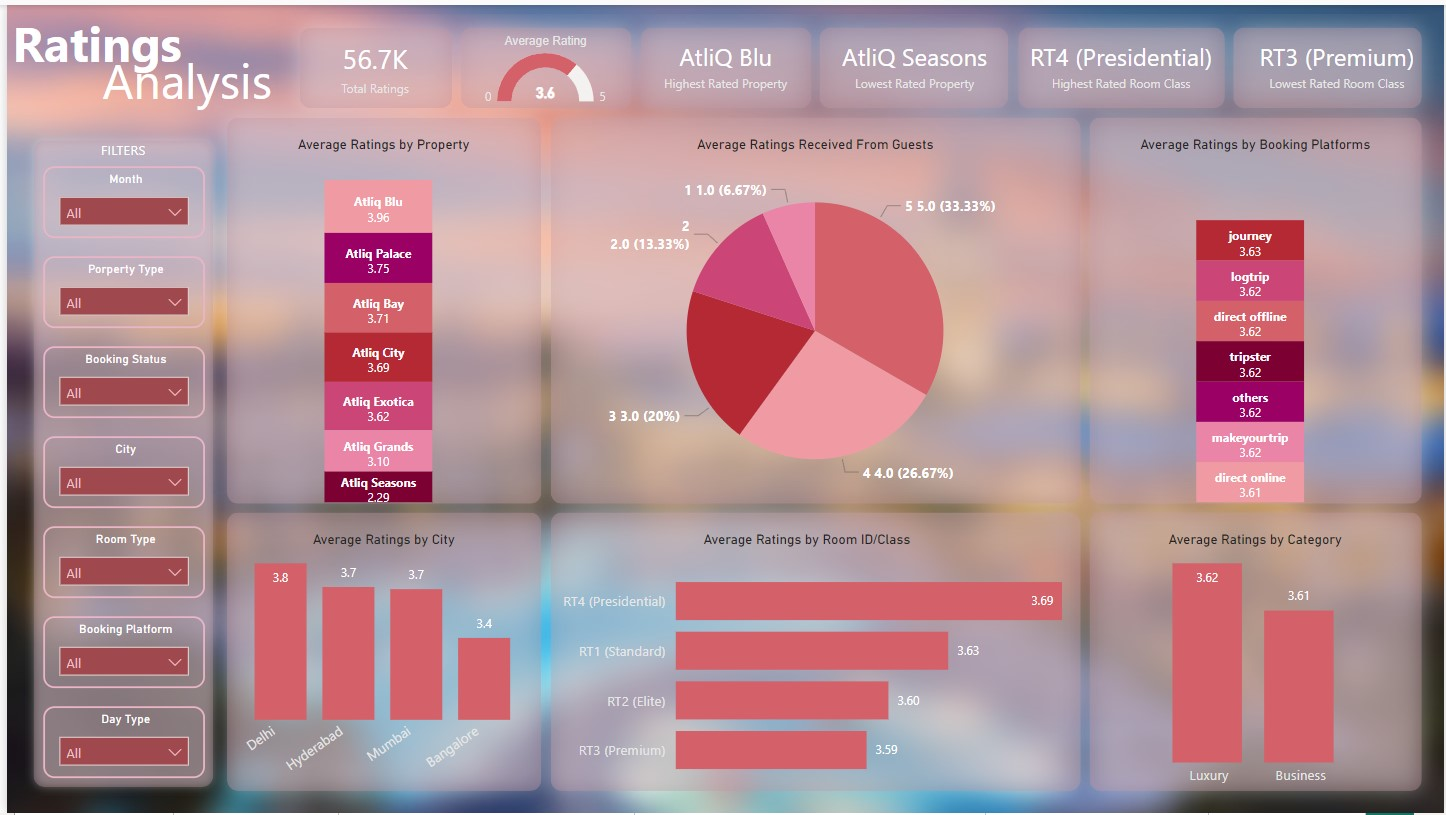

Layout of this report page (visuals, bound fields, positions):
{"tool":"powerbi","page":{"name":"Ratings Anaysis","canvas":[1280,720],"ordinal":5},"visuals":[{"type":"shape","title":"Filters","box":[464,432,512,288],"z":0},{"type":"shape","title":"Filters","box":[944,80,336,384],"z":1000},{"type":"shape","title":"Filters","box":[464,80,512,384],"z":2000},{"type":"shape","title":"Filters","box":[176,80,320,384],"z":3000},{"type":"shape","title":"Filters","box":[944,432,336,288],"z":4000},{"type":"shape","title":"Filters","box":[176,432,320,288],"z":5000},{"type":"shape","title":"Filters","box":[1072,0,208,112],"z":6000},{"type":"shape","title":"Filters","box":[704,0,208,112],"z":7000},{"type":"shape","title":"Filters","box":[384,0,192,112],"z":8000},{"type":"shape","title":"Filters","box":[880,0,224,112],"z":9000},{"type":"shape","title":"Filters","box":[544,0,192,112],"z":10000},{"type":"shape","title":"Filters","box":[240,0,176,112],"z":11000},{"type":"shape","title":"Filters","box":[16,112,176,592],"z":12000},{"type":"pieChart","title":"Average Ratings Received From Guests","fields":{"Y":["Avg(bookings.ratings_given)"],"Category":["bookings.ratings_given"]},"box":[480,112,480,336],"z":13000},{"type":"gauge","title":"Average Rating","fields":{"Y":["Avg(bookings.ratings_given)"]},"box":[400,16,160,80],"z":14000},{"type":"columnChart","title":"Average Ratings by City","fields":{"Category":["agg_book.city"],"Y":["Avg(bookings.ratings_given)"]},"box":[192,464,288,240],"z":15000},{"type":"slicer","title":"City","fields":{"Values":["agg_book.city"]},"box":[32,384,144,64],"z":16000},{"type":"slicer","title":"Porperty Type","fields":{"Values":["agg_book.property_name"]},"box":[32,224,144,64],"z":17000},{"type":"slicer","title":"Booking Platform","fields":{"Values":["bookings.booking_platform"]},"box":[32,544,144,64],"z":18000},{"type":"slicer","title":"Month","fields":{"Values":["agg_book.Month"]},"box":[32,144,144,64],"z":19000},{"type":"slicer","title":"Day Type","fields":{"Values":["agg_book.day_type"]},"box":[32,624,144,64],"z":20000},{"type":"slicer","title":"Booking Status","fields":{"Values":["bookings.booking_status"]},"box":[32,304,144,64],"z":21000},{"type":"slicer","title":"Room Type","fields":{"Values":["agg_book.room_id_class"]},"box":[32,464,144,64],"z":22000},{"type":"clusteredBarChart","title":"Average Ratings by Room ID/Class","fields":{"Category":["bookings.room_id_class"],"Y":["Avg(bookings.ratings_given)"]},"box":[480,464,480,240],"z":23000},{"type":"columnChart","title":"Average Ratings by Property","fields":{"Y":["Avg(bookings.ratings_given)"],"Series":["agg_book.property_name"]},"box":[192,112,288,336],"z":24000},{"type":"columnChart","title":"Average Ratings by Booking Platforms","fields":{"Y":["Avg(bookings.ratings_given)"],"Series":["bookings.booking_platform"]},"box":[960,112,304,336],"z":25000},{"type":"columnChart","title":"Average Ratings by Category","fields":{"Category":["agg_book.category"],"Y":["Avg(bookings.ratings_given)"]},"box":[960,464,304,240],"z":26000},{"type":"card","fields":{"Values":["CountNonNull(bookings.ratings_given)"]},"box":[256,16,144,80],"z":27000},{"type":"textbox","box":[0,0,176,80],"z":28000},{"type":"textbox","box":[80,32,192,80],"z":29000},{"type":"textbox","box":[896,16,192,80],"z":30000},{"type":"textbox","box":[720,16,176,80],"z":31000},{"type":"textbox","box":[560,16,160,80],"z":32000},{"type":"textbox","box":[1104,16,160,80],"z":33000}]}

Visuals, with their boxes in screenshot pixels (x1, y1, x2, y2), scaled from the page's 1280x720 canvas onto the 1446x815 screenshot:
"Filters" shape: box=[524, 489, 1103, 814]
"Filters" shape: box=[1066, 91, 1445, 525]
"Filters" shape: box=[524, 91, 1103, 525]
"Filters" shape: box=[199, 91, 560, 525]
"Filters" shape: box=[1066, 489, 1445, 814]
"Filters" shape: box=[199, 489, 560, 814]
"Filters" shape: box=[1211, 0, 1445, 127]
"Filters" shape: box=[795, 0, 1030, 127]
"Filters" shape: box=[434, 0, 651, 127]
"Filters" shape: box=[994, 0, 1247, 127]
"Filters" shape: box=[615, 0, 831, 127]
"Filters" shape: box=[271, 0, 470, 127]
"Filters" shape: box=[18, 127, 217, 797]
"Average Ratings Received From Guests" pieChart: box=[542, 127, 1084, 507]
"Average Rating" gauge: box=[452, 18, 633, 109]
"Average Ratings by City" columnChart: box=[217, 525, 542, 797]
"City" slicer: box=[36, 435, 199, 507]
"Porperty Type" slicer: box=[36, 254, 199, 326]
"Booking Platform" slicer: box=[36, 616, 199, 688]
"Month" slicer: box=[36, 163, 199, 235]
"Day Type" slicer: box=[36, 706, 199, 779]
"Booking Status" slicer: box=[36, 344, 199, 417]
"Room Type" slicer: box=[36, 525, 199, 598]
"Average Ratings by Room ID/Class" clusteredBarChart: box=[542, 525, 1084, 797]
"Average Ratings by Property" columnChart: box=[217, 127, 542, 507]
"Average Ratings by Booking Platforms" columnChart: box=[1084, 127, 1428, 507]
"Average Ratings by Category" columnChart: box=[1084, 525, 1428, 797]
card - CountNonNull(bookings.ratings_given): box=[289, 18, 452, 109]
textbox: box=[0, 0, 199, 91]
textbox: box=[90, 36, 307, 127]
textbox: box=[1012, 18, 1229, 109]
textbox: box=[813, 18, 1012, 109]
textbox: box=[633, 18, 813, 109]
textbox: box=[1247, 18, 1428, 109]
